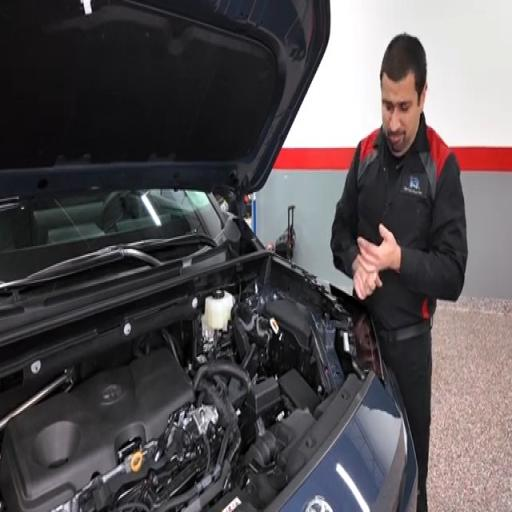bumper: (280, 379, 417, 511)
emblem: (102, 384, 122, 405), (304, 497, 333, 511), (409, 175, 419, 190)
hood: (0, 0, 329, 197)
windshield: (0, 190, 221, 281)
